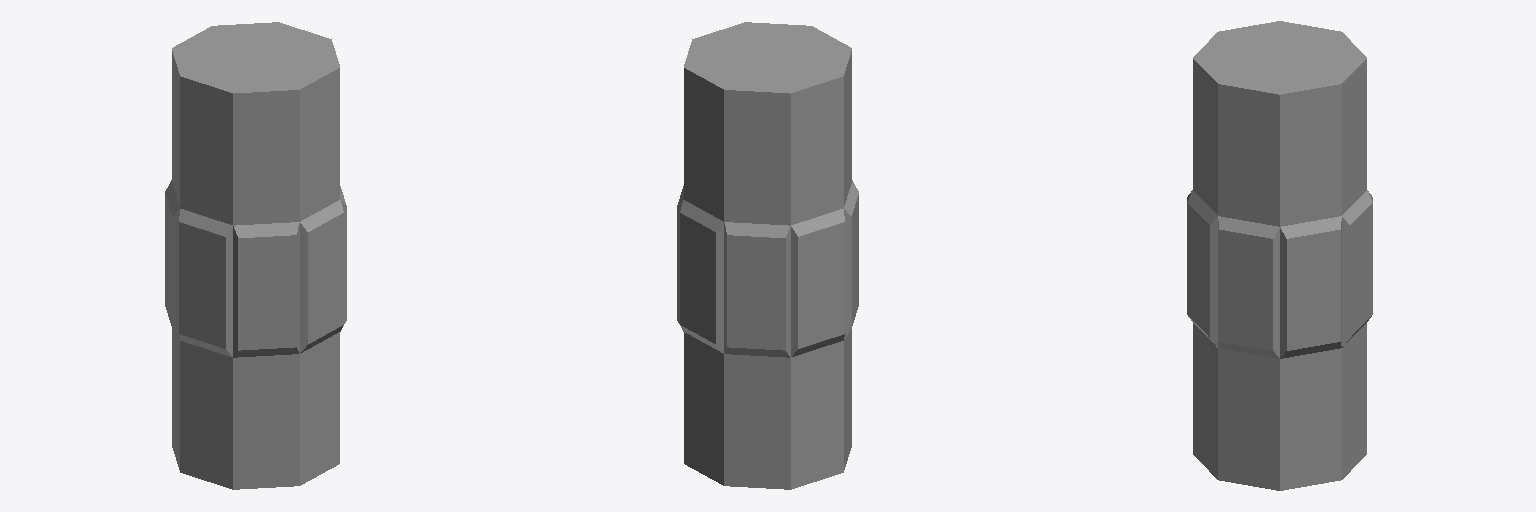
Rendered from AntennaNotch.obj.
The picture shows the model from 3 angles: view 1: azimuth 30°, elevation 25°; view 2: azimuth 150°, elevation 25°; view 3: azimuth 270°, elevation 25°; orthographic projection.
Visible parts, largest first — view 1: Atenna_Tower_Nodes_Cylinder; view 2: Atenna_Tower_Nodes_Cylinder; view 3: Atenna_Tower_Nodes_Cylinder.
Boxes of the visible parts, <box> form: Atenna_Tower_Nodes_Cylinder: <box>165,22,346,489</box>; Atenna_Tower_Nodes_Cylinder: <box>677,22,858,489</box>; Atenna_Tower_Nodes_Cylinder: <box>1187,21,1372,490</box>.
Size of the model in its own units: 0.424 by 1 by 0.424.